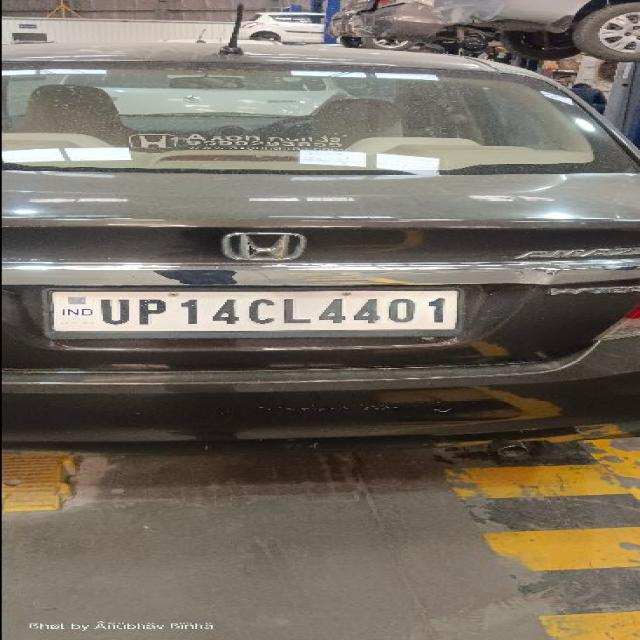license_plate: (40, 285, 466, 339)
